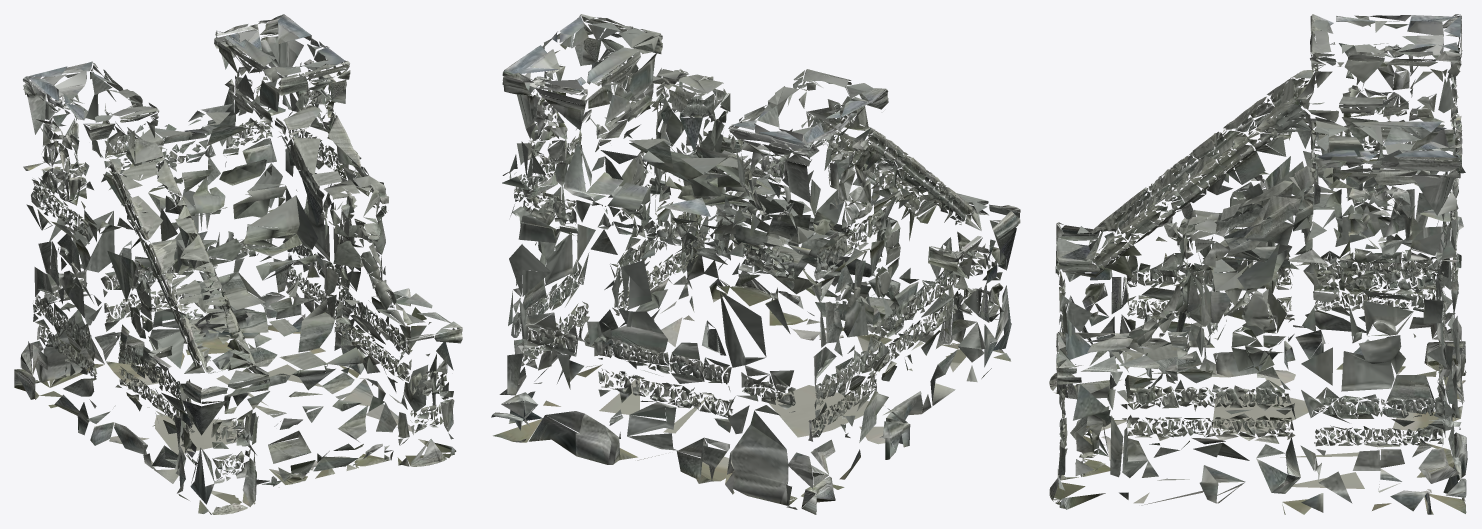
The model's file is temple_block_opt.glb.
The picture shows the model from 3 angles, left to right: view 1: azimuth 30°, elevation 25°; view 2: azimuth 150°, elevation 25°; view 3: azimuth 270°, elevation 25°; orthographic projection. The views are drawn at different scales.
Parts seen in each view (by area): view 1: aztec_temple_block_refined; view 2: aztec_temple_block_refined; view 3: aztec_temple_block_refined.
Boxes of the visible parts, left/top/right/bottom form: aztec_temple_block_refined: left=14, top=14, right=462, bottom=514; aztec_temple_block_refined: left=491, top=14, right=1020, bottom=514; aztec_temple_block_refined: left=1049, top=14, right=1467, bottom=514.
Bounding box in the file's own units: 1.66 × 1.79 × 1.9.
1 material, 1 textured.
